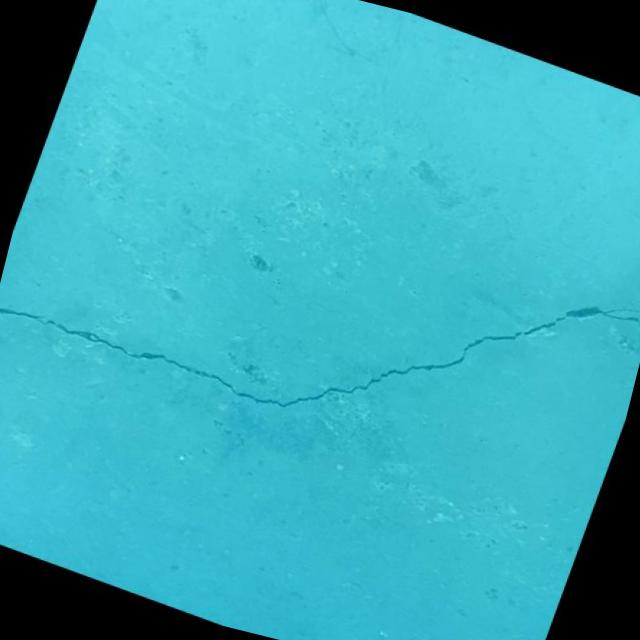crack: (0, 83, 640, 536)
